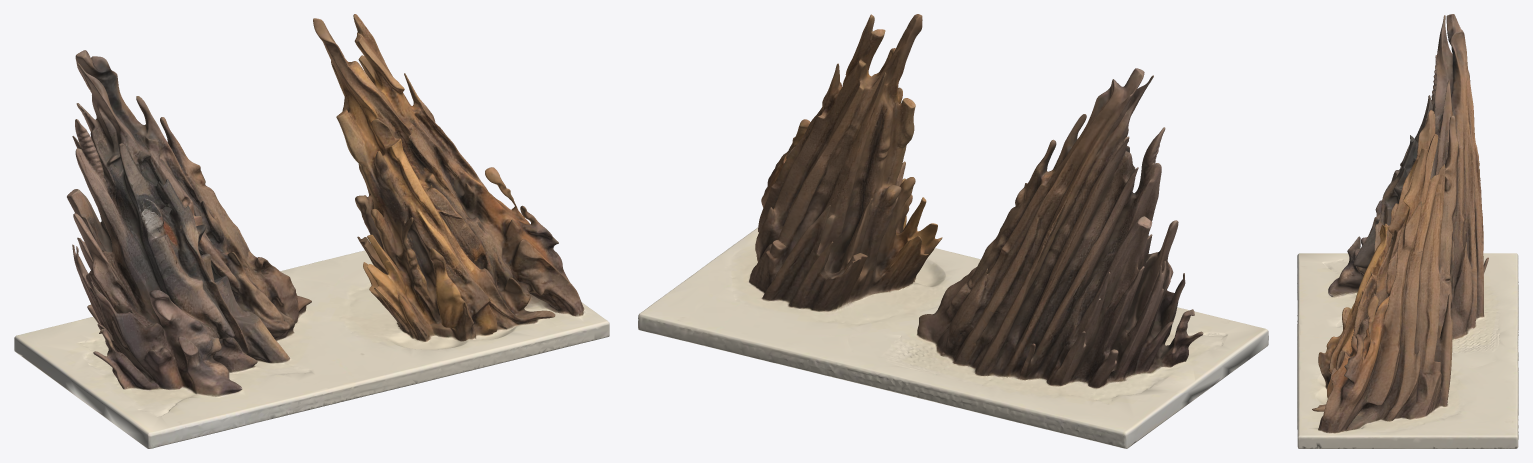
Rendered from nature9-v1.glb.
3 renders of one model, left to right at view 1: azimuth 30°, elevation 25°; view 2: azimuth 150°, elevation 25°; view 3: azimuth 270°, elevation 25°, orthographic. The views are drawn at different scales.
Visible parts, largest first — view 1: tripo_node_acd3442b-ca10-4583-b057-0f9ed6b5fc97; view 2: tripo_node_acd3442b-ca10-4583-b057-0f9ed6b5fc97; view 3: tripo_node_acd3442b-ca10-4583-b057-0f9ed6b5fc97.
Boxes of the visible parts, box(x1,y1,x2,y2) form: tripo_node_acd3442b-ca10-4583-b057-0f9ed6b5fc97: box(14, 14, 609, 448); tripo_node_acd3442b-ca10-4583-b057-0f9ed6b5fc97: box(638, 14, 1268, 448); tripo_node_acd3442b-ca10-4583-b057-0f9ed6b5fc97: box(1297, 14, 1518, 448).
Size of the model in its own units: 1 by 0.6682 by 0.5093.
Materials: 1 (1 with a texture image).
